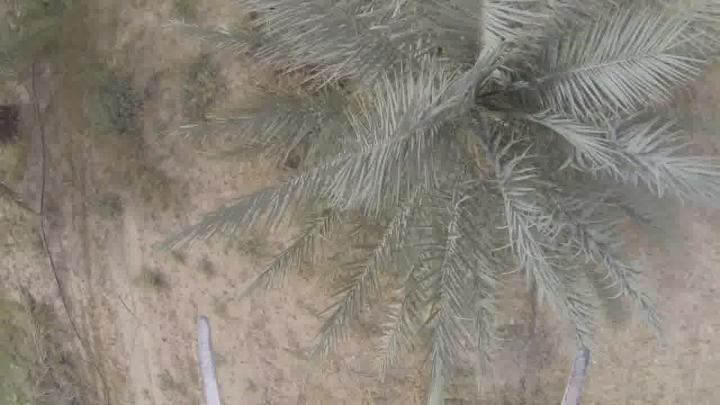Date-Palm-Crown: (342, 0, 650, 282)
